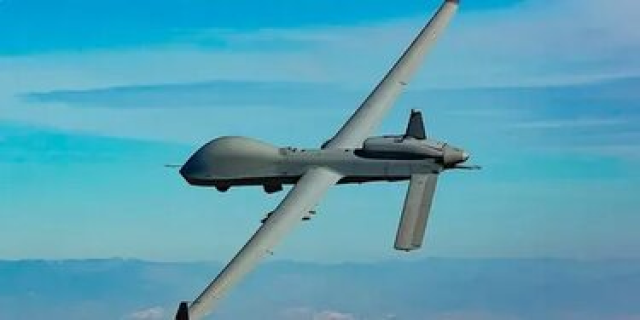military drone: (164, 0, 483, 320)
